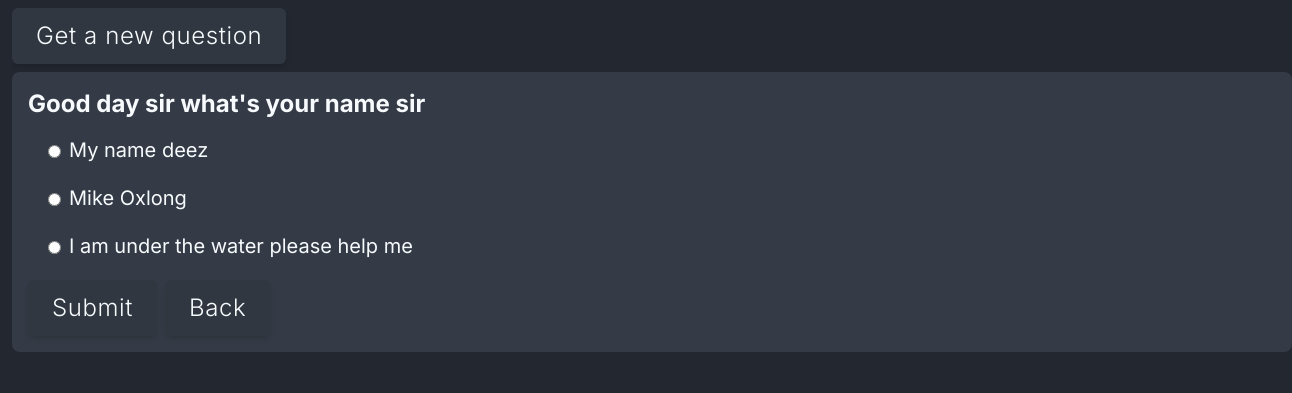
Test case: RandomQuestion page tests › RandomQuestion useMutate submit correct answer
The image size is (1292, 393).
Click the text "My name deez" at (139, 152), box [65, 136, 212, 168]
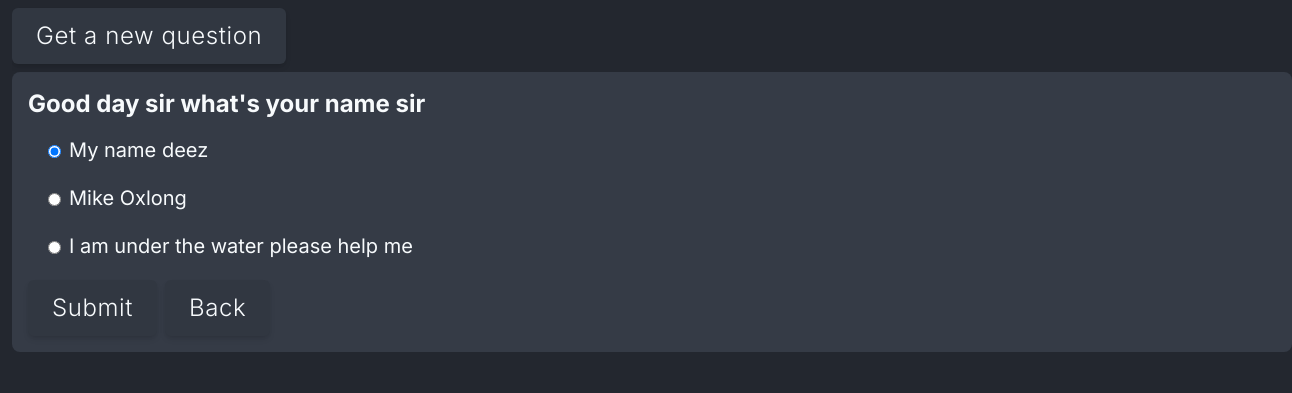
Click the button "Submit" at (93, 308), box [28, 280, 157, 336]
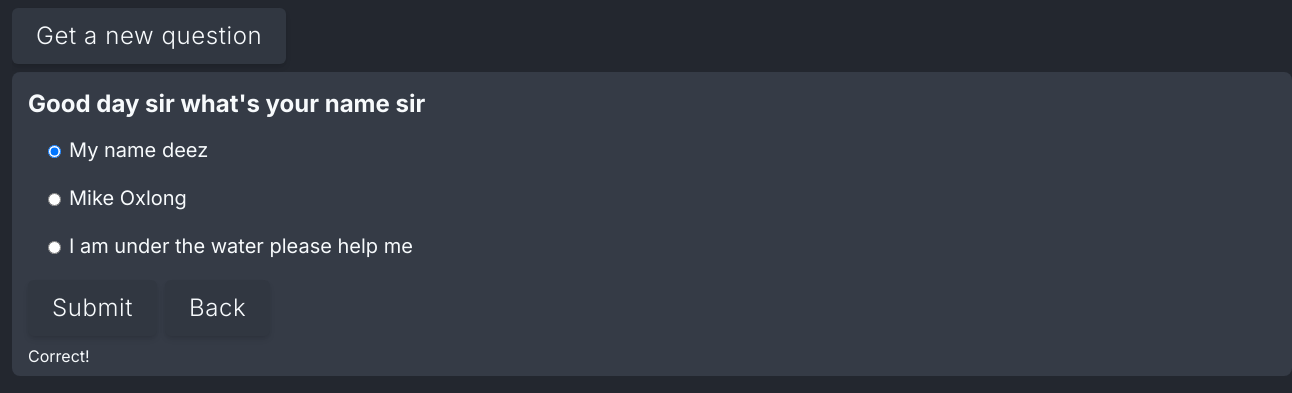
Expected: the text "Correct!" is shown, [28, 346, 90, 366]
